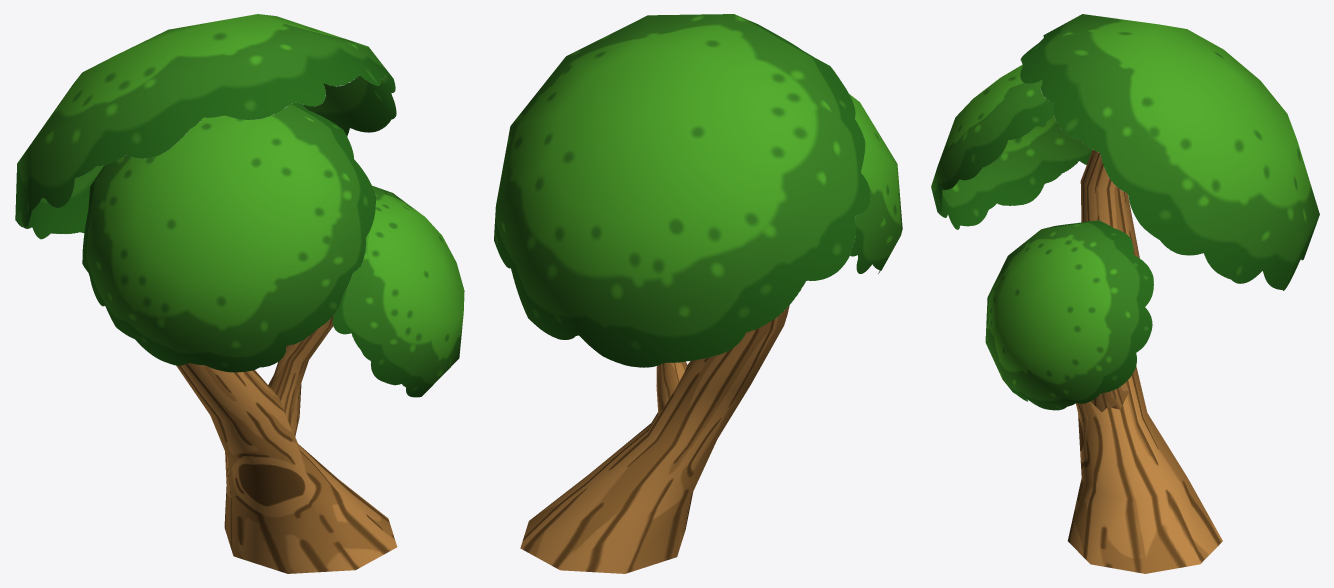
The picture shows the model from 3 angles, left to right: view 1: azimuth 30°, elevation 25°; view 2: azimuth 150°, elevation 25°; view 3: azimuth 270°, elevation 25°; orthographic projection. The views are drawn at different scales.
Visible parts, largest first — view 1: Cylinder013, Cylinder012, Cylinder007, Cylinder014, Cylinder008; view 2: Cylinder012, Cylinder007, Cylinder013, Cylinder008; view 3: Cylinder012, Cylinder014, Cylinder007, Cylinder013, Cylinder008.
Part boxes in pixels (x1,y1,x2,y2): Cylinder013: [82, 102, 375, 372]; Cylinder012: [15, 14, 396, 239]; Cylinder007: [176, 363, 397, 573]; Cylinder014: [332, 185, 464, 397]; Cylinder008: [268, 315, 333, 437]; Cylinder012: [494, 14, 870, 367]; Cylinder007: [520, 306, 789, 573]; Cylinder013: [849, 94, 902, 273]; Cylinder008: [656, 361, 687, 413]; Cylinder012: [1020, 14, 1319, 290]; Cylinder014: [985, 220, 1153, 410]; Cylinder007: [1068, 150, 1222, 573]; Cylinder013: [931, 64, 1092, 229]; Cylinder008: [1090, 383, 1129, 411].
Bounding box in the file's own units: 145 × 192 × 145.
Materials: 1 (1 with a texture image).
